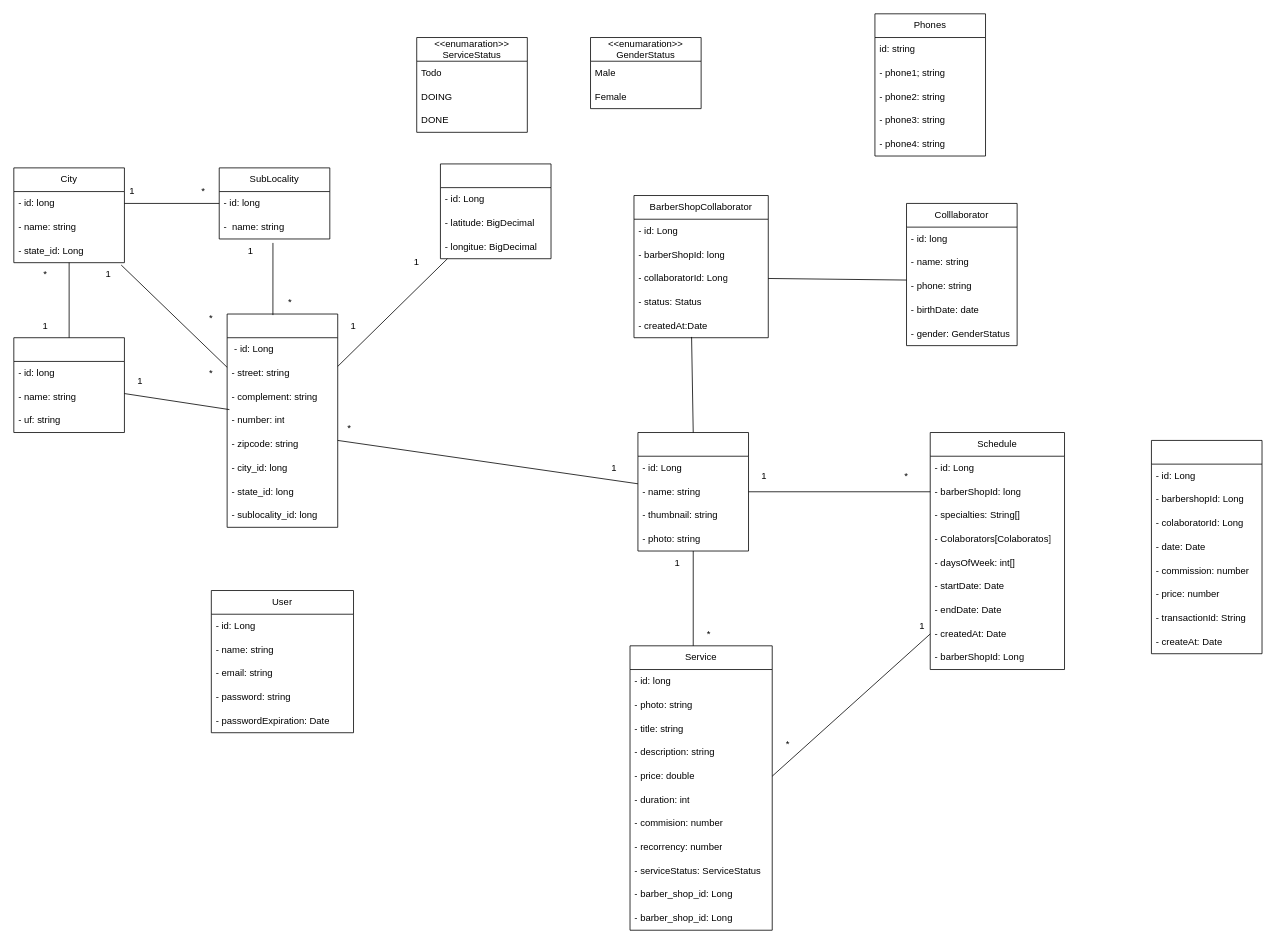
This 1276x944 diagram has some shape labels left out. The box of each missing label's shape, as (x1, y1, x2, y2) in pixels:
Address: (226, 313, 338, 527)
Appointment: (1151, 440, 1262, 654)
BarberShop: (637, 432, 749, 551)
Geolocation: (440, 163, 551, 259)
State: (13, 337, 124, 433)
